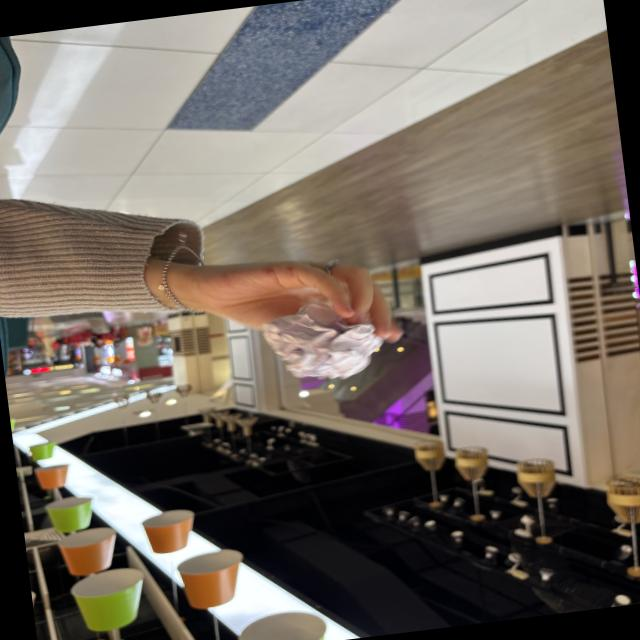crumpled_paper: (258, 290, 387, 392)
